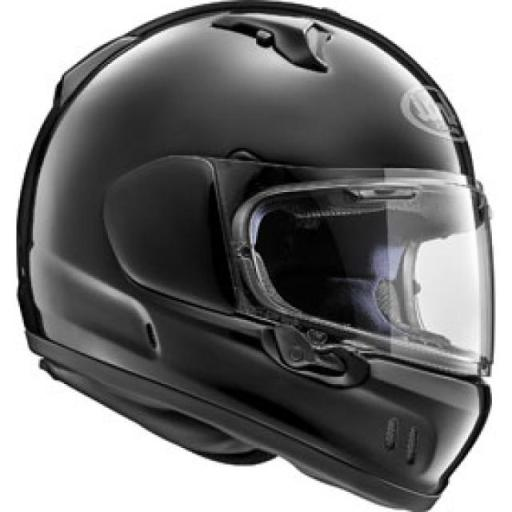Helmet: (18, 2, 492, 510)
